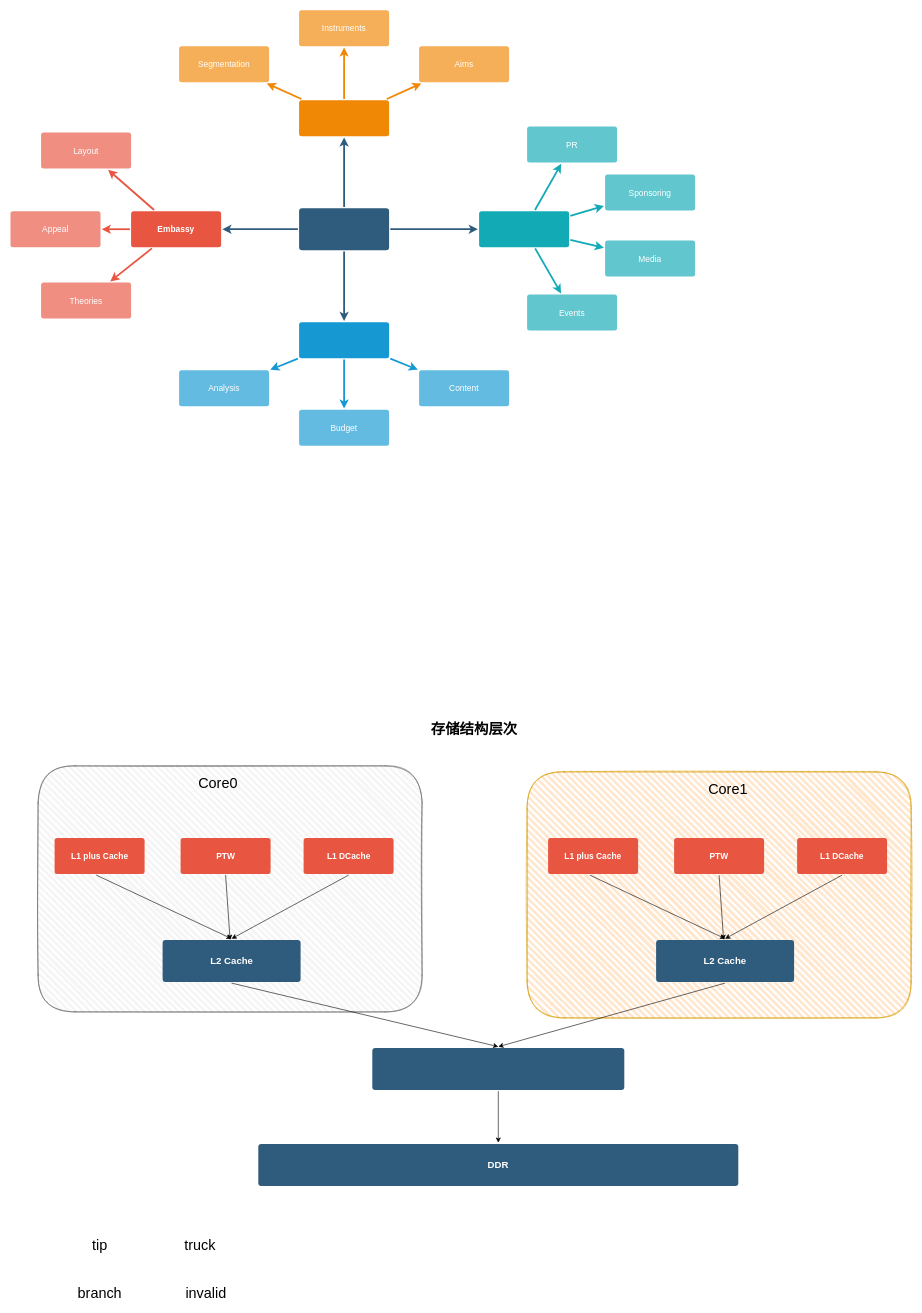
This 922x1313 diagram has some shape labels left out. The shapes that lost their labels are listed below. From the top down, each one's centre as x and y in pixels, then its label:
the point at 344,118: Marketing
the point at 344,229: Advertising
the point at 524,229: Communication
the point at 344,340: Organization
the point at 498,1069: L3 Cache
